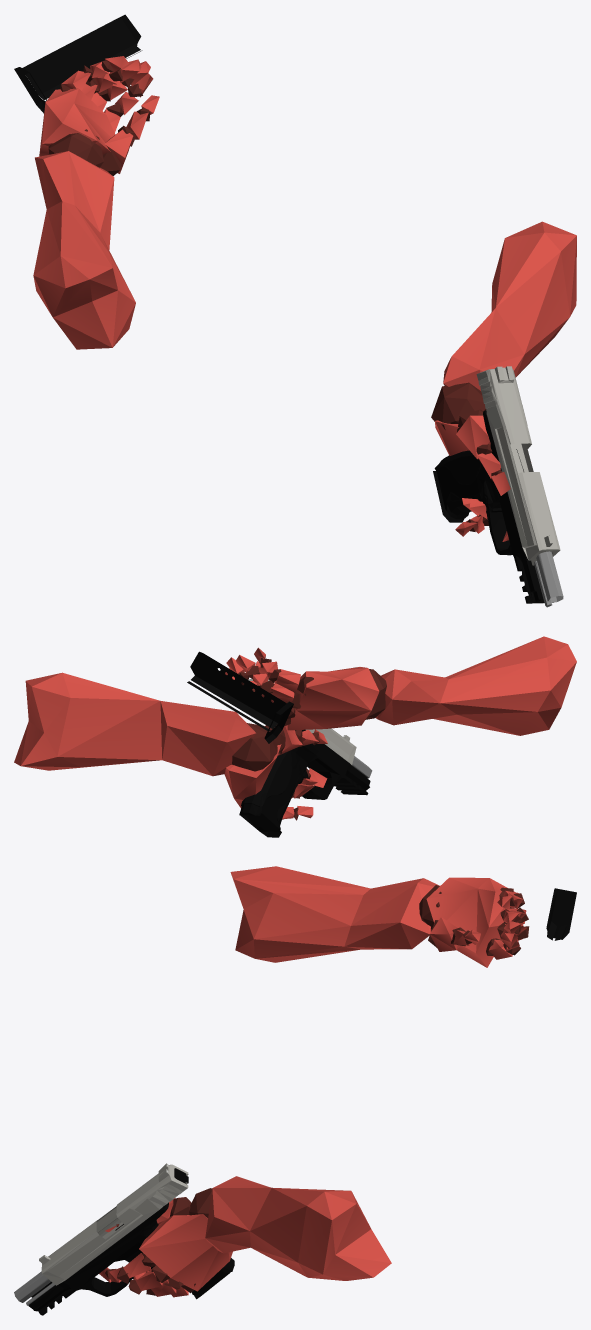
The model's file is M&P9reloadNormal1lowP_000121.obj.
3 renders of one model, top to bottom at view 1: azimuth 30°, elevation 25°; view 2: azimuth 150°, elevation 25°; view 3: azimuth 270°, elevation 25°, orthographic. The views are drawn at different scales.
Parts seen in each view (by area): view 1: Beta_Surface.001_Beta_Surface.002, slide_平面.002, triger_平面.001, Beta_Joints.001_Beta_Joints.002, magazine.002_平面.005; view 2: Beta_Surface.001_Beta_Surface.002, triger_平面.001, magazine.002_平面.005, Beta_Joints.001_Beta_Joints.002, slide_平面.002; view 3: Beta_Surface.001_Beta_Surface.002, slide_平面.002, triger_平面.001, Beta_Joints.001_Beta_Joints.002, magazine.002_平面.005.
Boxes of the visible parts, <box> form: Beta_Surface.001_Beta_Surface.002: <box>33,56,576,541</box>; slide_平面.002: <box>476,366,560,565</box>; triger_平面.001: <box>434,410,563,607</box>; Beta_Joints.001_Beta_Joints.002: <box>48,60,502,531</box>; magazine.002_平面.005: <box>14,14,142,113</box>; Beta_Surface.001_Beta_Surface.002: <box>14,636,576,819</box>; triger_平面.001: <box>239,729,372,831</box>; magazine.002_平面.005: <box>187,651,293,743</box>; Beta_Joints.001_Beta_Joints.002: <box>231,658,386,820</box>; slide_平面.002: <box>248,678,356,764</box>; Beta_Surface.001_Beta_Surface.002: <box>99,866,526,1297</box>; slide_平面.002: <box>39,1163,188,1285</box>; triger_平面.001: <box>14,1202,234,1315</box>; Beta_Joints.001_Beta_Joints.002: <box>105,885,529,1295</box>; magazine.002_平面.005: <box>546,888,576,940</box>.
Bounding box in the file's own units: 102 × 70.13 × 101.
